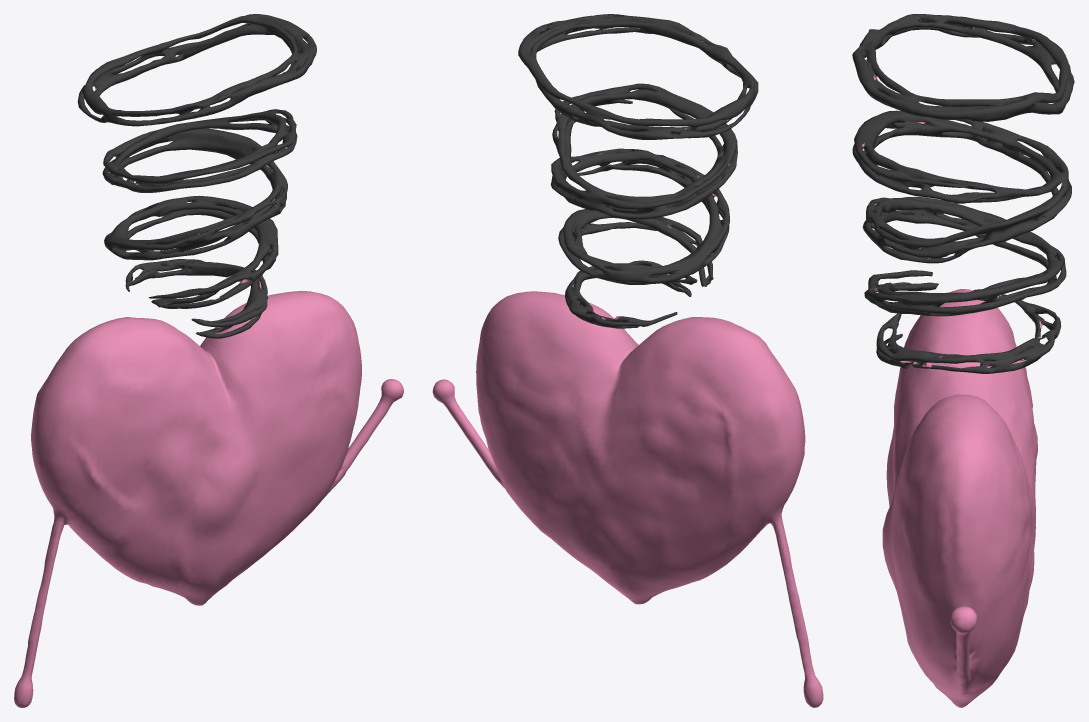
The model's file is love2.fbx.
3 views of the same model, side by side, from view 1: azimuth 30°, elevation 25°; view 2: azimuth 150°, elevation 25°; view 3: azimuth 270°, elevation 25° (orthographic). The views are drawn at different scales.
Parts seen in each view (by area): view 1: Mesh1; view 2: Mesh1; view 3: Mesh1.
Part boxes in pixels (x1,y1,x2,y2): Mesh1: [14, 14, 403, 707]; Mesh1: [432, 14, 823, 707]; Mesh1: [852, 14, 1074, 707].
Bounding box in the file's own units: 132 × 198 × 54.64.
